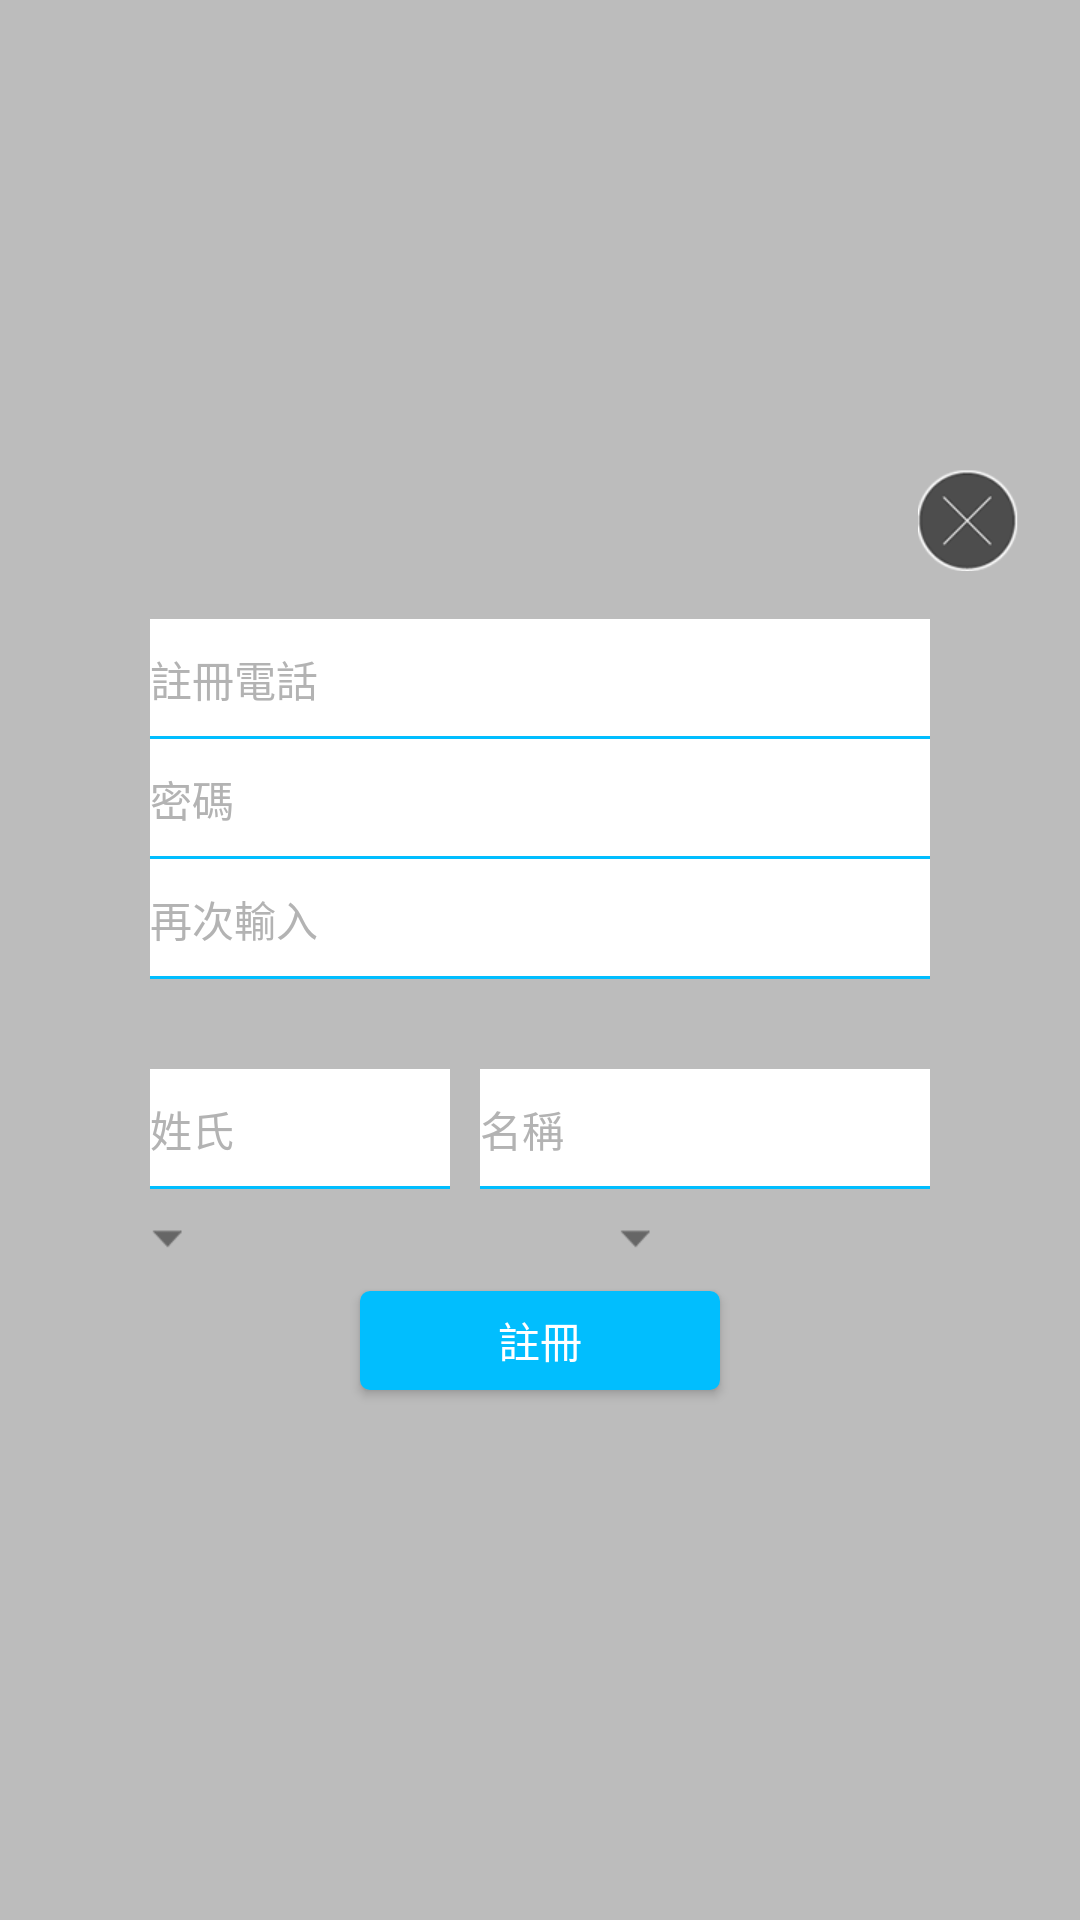

Screen size 1080 x 1920. Icon name, then its box in pixels as (x1=x1, y1=y1, x2=x2, y2=y2):
close: (x1=918, y1=470, x2=1017, y2=571)
register drop: (x1=153, y1=1230, x2=182, y2=1247), (x1=621, y1=1230, x2=650, y2=1247)
